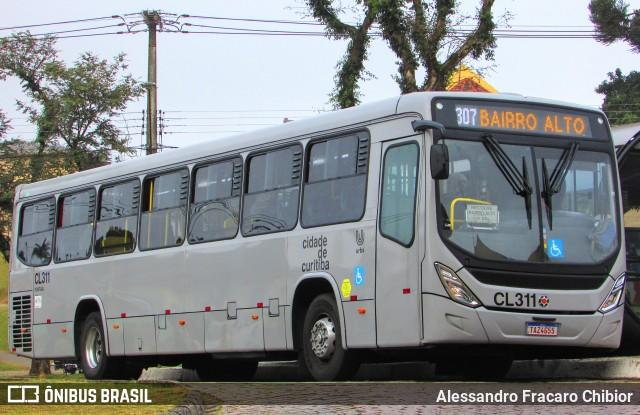BAIRRO ALTO: (477, 106, 588, 140)
